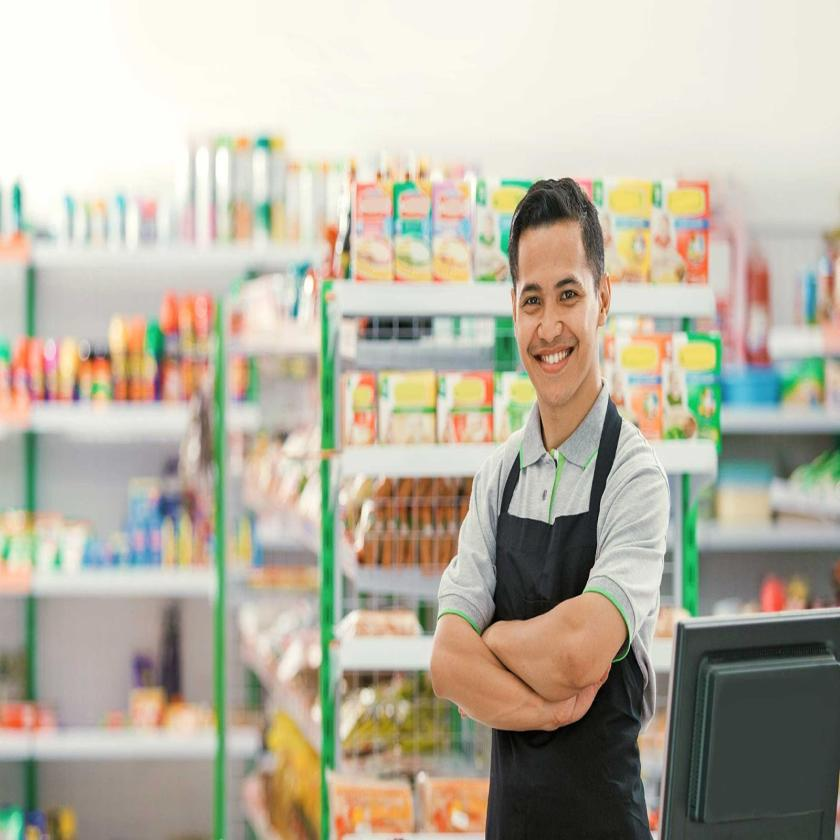Sin_casco: (503, 175, 615, 405)
